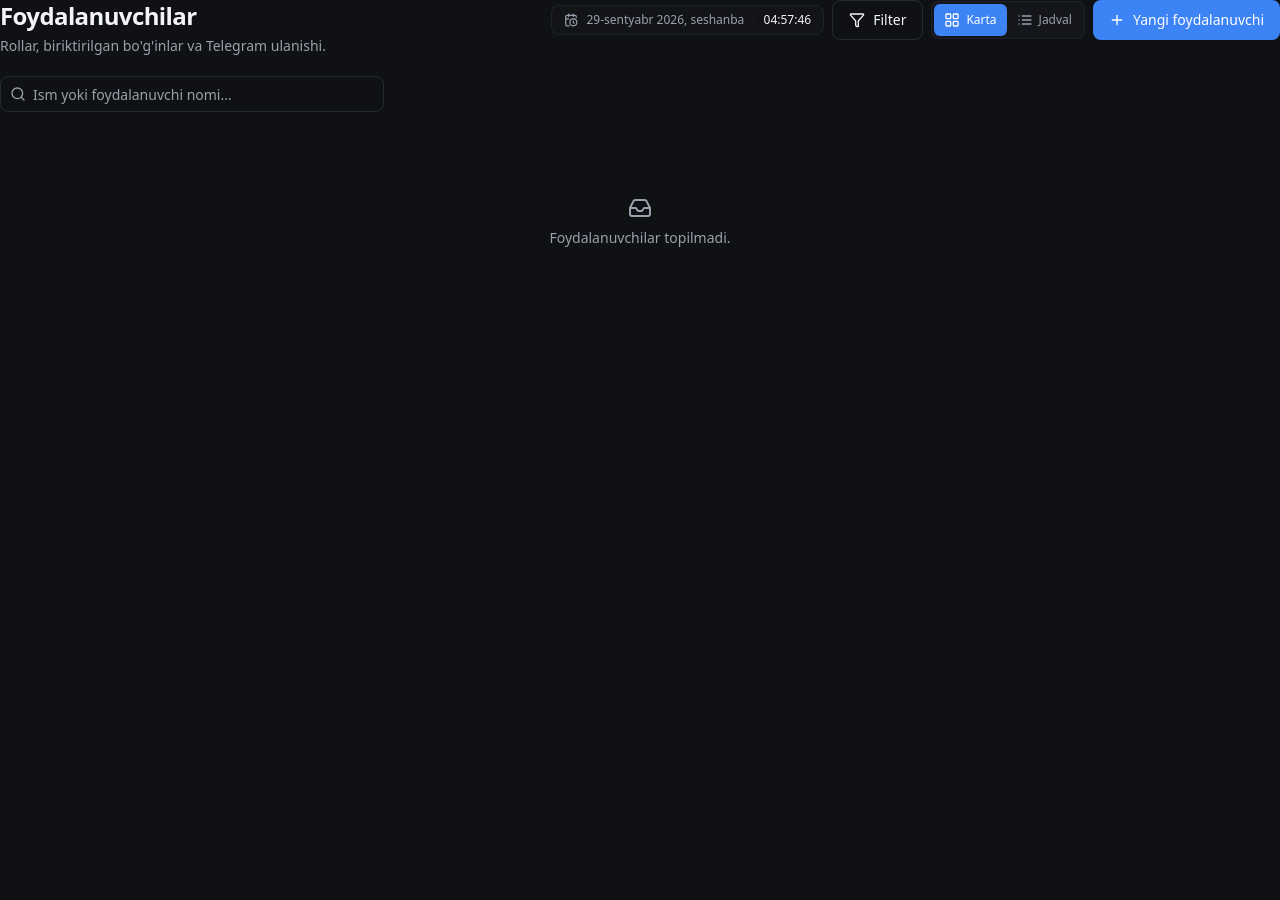
Test: EmployeesPage › opens the create dialog when "Yangi foydalanuvchi" is clicked
The width and height of the screenshot is (1280, 900).
Click the button "Yangi foydalanuvchi": {"x": 1186, "y": 20} left=1093, top=0, right=1279, bottom=40
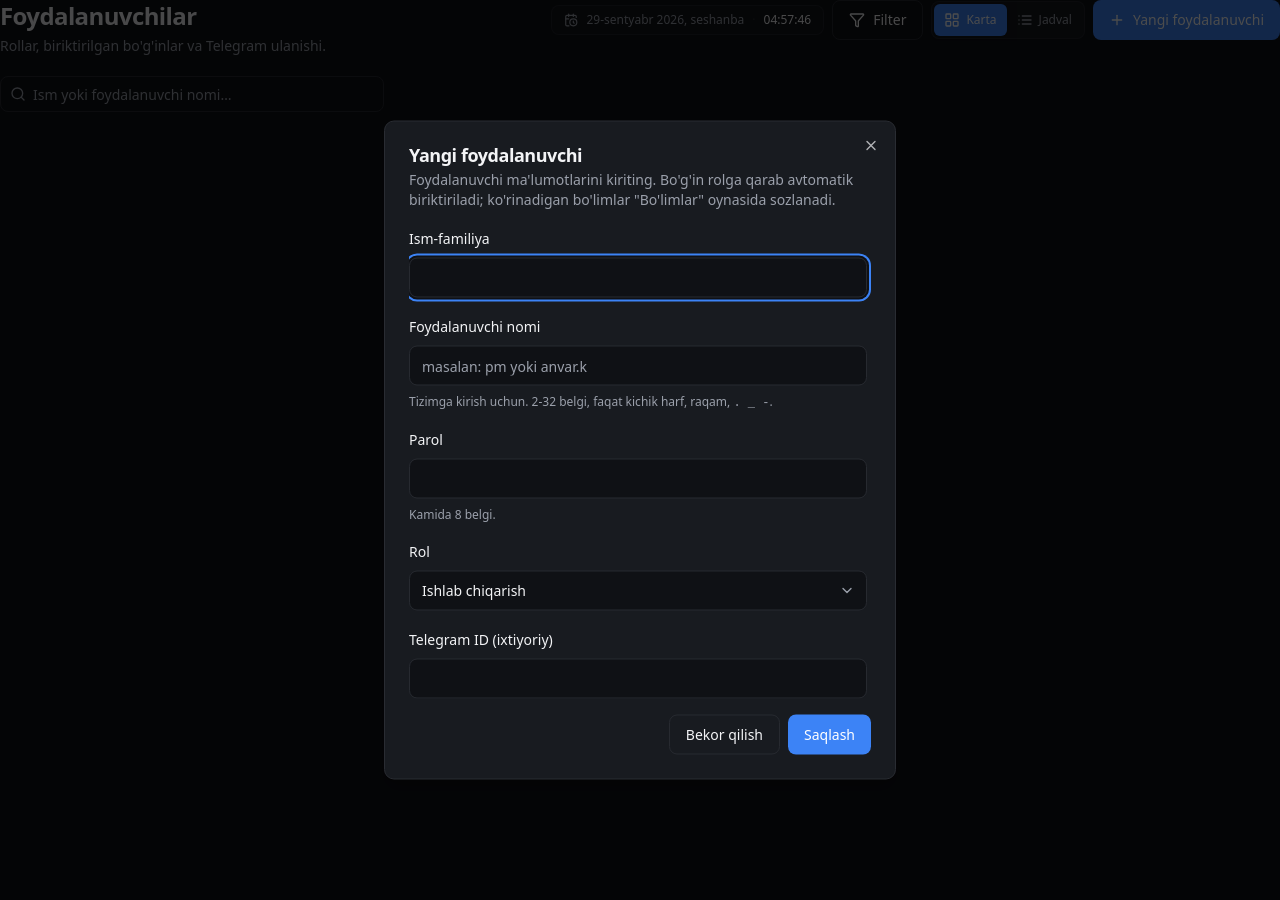
Now the dropdown labelled "Rol" is shown, box left=409, top=570, right=867, bottom=610
